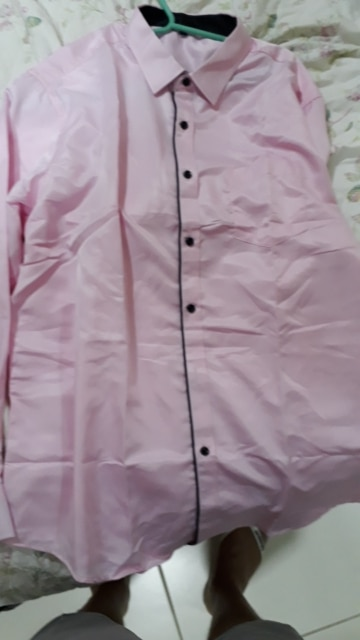shirts: (18, 20, 360, 484)
